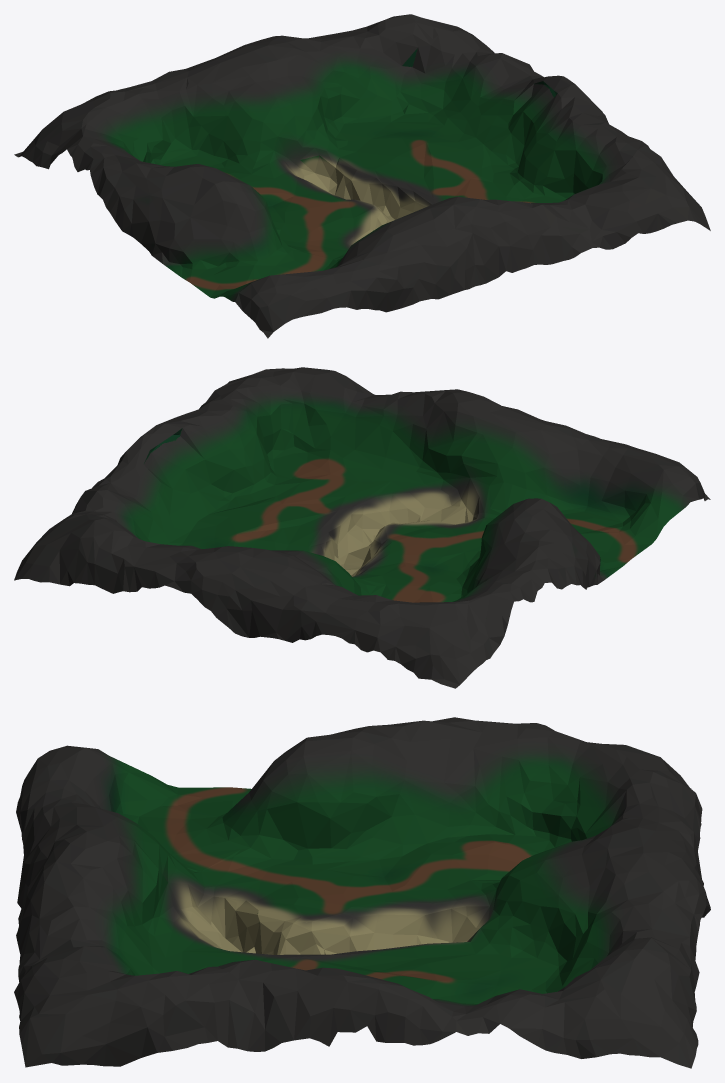
File: Bruhhhhhhh.fbx
3 views of the same model, one above another, from view 1: azimuth 30°, elevation 25°; view 2: azimuth 150°, elevation 25°; view 3: azimuth 270°, elevation 25° (orthographic). The views are drawn at different scales.
Visible parts, largest first — view 1: Plane; view 2: Plane; view 3: Plane.
Boxes of the visible parts, bbox=[...] form: Plane: bbox=[14, 14, 710, 338]; Plane: bbox=[14, 367, 710, 688]; Plane: bbox=[14, 717, 710, 1068].
Size of the model in its own units: 3770 by 806 by 3761.
1 material, 1 textured.
